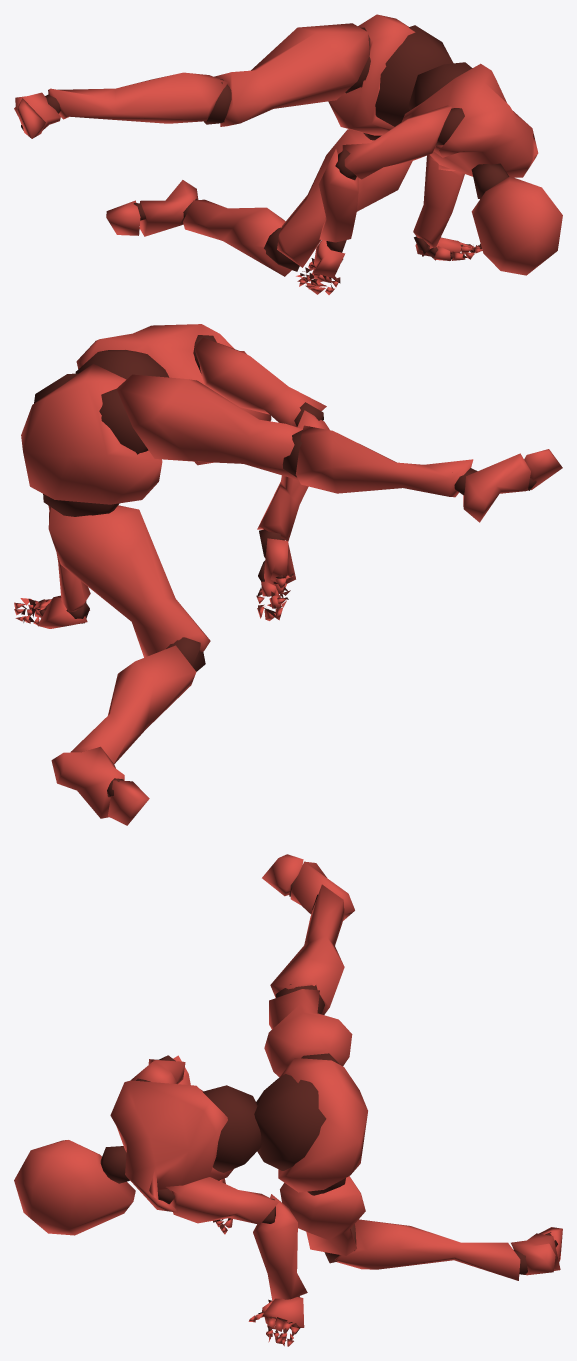
The picture shows the model from 3 angles, top to bottom: view 1: azimuth 30°, elevation 25°; view 2: azimuth 150°, elevation 25°; view 3: azimuth 270°, elevation 25°; orthographic projection. The views are drawn at different scales.
Visible parts, largest first — view 1: Beta_Surface; view 2: Beta_Surface; view 3: Beta_Surface.
Boxes of the visible parts, <box> form: Beta_Surface: <box>14,14,562,294</box>; Beta_Surface: <box>14,324,562,825</box>; Beta_Surface: <box>14,854,562,1346</box>.
Size of the model in its own units: 13.88 by 8.08 by 13.76.
